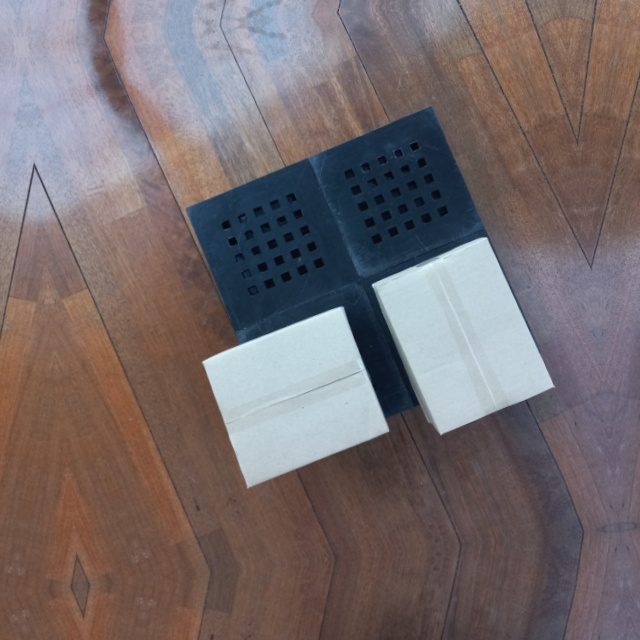box: (370, 233, 555, 439), (201, 304, 390, 491)
